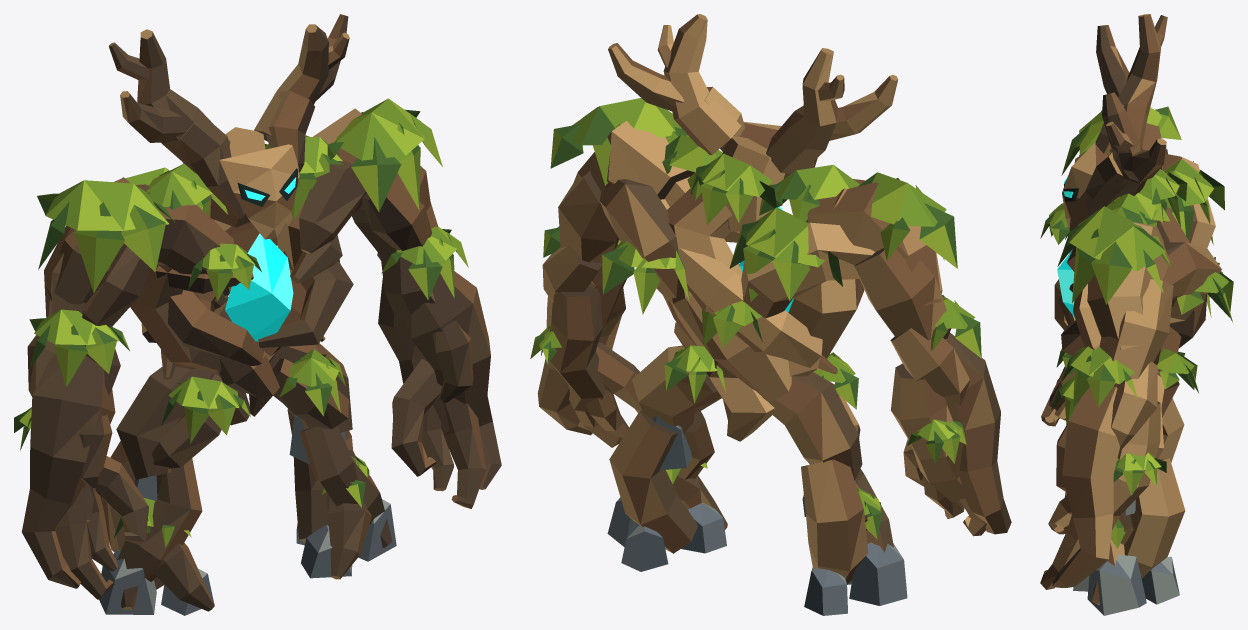
File: tide-root-colossus-v3-repair.glb
The picture shows the model from 3 angles, left to right: view 1: azimuth 30°, elevation 25°; view 2: azimuth 150°, elevation 25°; view 3: azimuth 270°, elevation 25°; orthographic projection. The views are drawn at different scales.
Visible parts, largest first — view 1: Forearm main to outer claw -1, Forearm main to outer claw 1, Calf crossing root -1, Thigh load root -1, Exposed turquoise heart, Long tapered bark mask, Outer shoulder growth -1 crown, Left lower cradle, Calf crossing root 1, Right clavicle cascade, Opposed root thumb 1, Right diagonal cradle (+56 smaller); view 2: Rear diagonal trunk, Calf rear load 1, Forearm main to outer claw -1, Calf rear load -1, Crossback lower root, Thigh load root -1, Arm descending trunk -1, Forearm inner braid 1, Crown right main, Right scapular arch, Crown left main, Left scapular arch (+45 smaller); view 3: Forearm main to outer claw 1, Calf rear load 1, Arm descending trunk 1, Outer shoulder growth 1 crown, Outer shoulder root 1, Crown left main, Outer embedded foot stone 1, Right scapular arch, Elbow outer hook 1, Forearm inner braid 1, Crown right main, Long tapered bark mask (+43 smaller).
Boxes of the visible parts, box(x1,y1,x2,y2) form: Forearm main to outer claw -1: box(22, 354, 115, 588); Forearm main to outer claw 1: box(399, 271, 501, 489); Calf crossing root -1: box(117, 458, 202, 609); Thigh load root -1: box(116, 366, 219, 479); Exposed turquoise heart: box(225, 233, 293, 341); Long tapered bark mask: box(219, 144, 299, 239); Outer shoulder growth -1 crown: box(45, 180, 169, 230); Left lower cradle: box(168, 290, 263, 365); Calf crossing root 1: box(299, 426, 392, 548); Right clavicle cascade: box(299, 160, 365, 253); Opposed root thumb 1: box(391, 359, 441, 476); Right diagonal cradle: box(258, 251, 353, 347); Rear diagonal trunk: box(667, 188, 791, 402); Calf rear load 1: box(609, 411, 697, 553); Forearm main to outer claw -1: box(945, 332, 1011, 534); Calf rear load -1: box(801, 459, 868, 584); Crossback lower root: box(660, 199, 822, 367); Thigh load root -1: box(762, 372, 862, 480); Arm descending trunk -1: box(854, 248, 951, 340); Forearm inner braid 1: box(550, 287, 605, 412); Crown right main: box(663, 14, 741, 154); Right scapular arch: box(599, 179, 678, 303); Crown left main: box(766, 48, 838, 173); Left scapular arch: box(741, 222, 875, 318); Forearm main to outer claw 1: box(1052, 386, 1119, 587); Calf rear load 1: box(1124, 458, 1185, 578); Arm descending trunk 1: box(1078, 279, 1173, 401); Outer shoulder growth 1 crown: box(1069, 206, 1165, 271); Outer shoulder root 1: box(1087, 222, 1170, 349); Crown left main: box(1109, 14, 1160, 151); Outer embedded foot stone 1: box(1087, 555, 1146, 615); Right scapular arch: box(1162, 242, 1221, 323); Elbow outer hook 1: box(1111, 361, 1157, 451); Forearm inner braid 1: box(1112, 401, 1160, 530); Crown right main: box(1102, 92, 1146, 196); Long tapered bark mask: box(1062, 142, 1107, 231).
Size of the model in its own units: 5.11 by 5.79 by 2.02.
